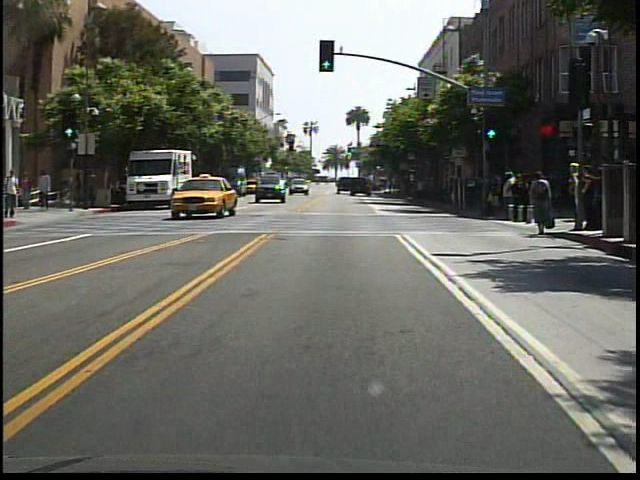person: (525, 168, 555, 237), (499, 166, 518, 226), (37, 165, 57, 214), (9, 168, 26, 220), (87, 168, 103, 208), (22, 171, 37, 213), (75, 170, 87, 207)
